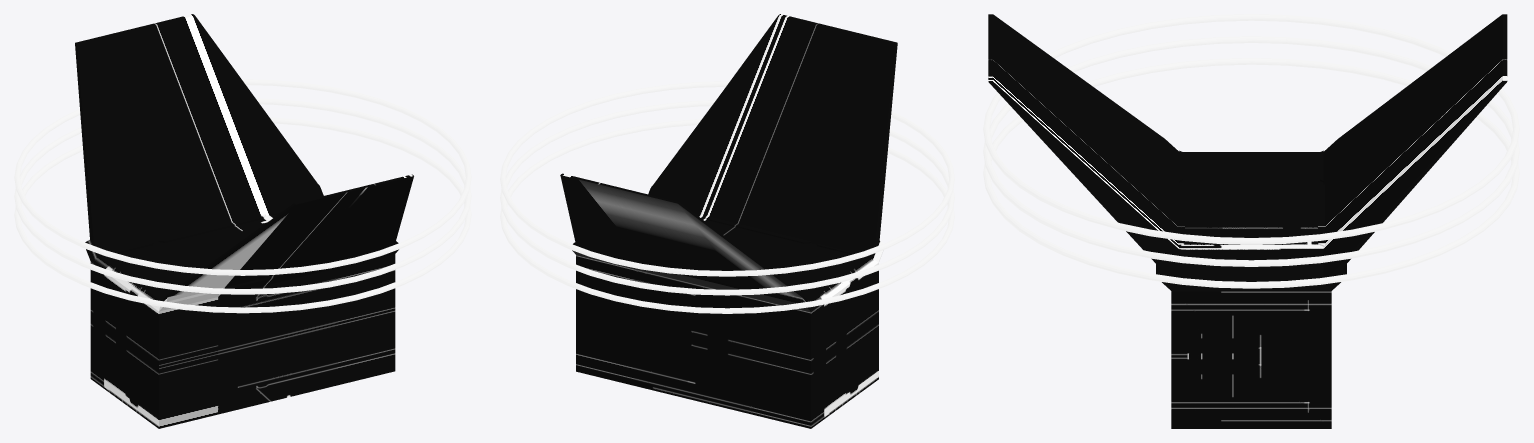
Rendered from TronscendenceMap2.glb.
3 renders of one model, left to right at view 1: azimuth 30°, elevation 25°; view 2: azimuth 150°, elevation 25°; view 3: azimuth 270°, elevation 25°, orthographic. The views are drawn at different scales.
Visible parts, largest first — view 1: Cube, Torus.002, Torus.001, Torus; view 2: Cube, Torus.002, Torus.001, Torus; view 3: Cube, Torus.002, Torus.001, Torus.
Boxes of the visible parts, left/top/right/bottom form: Cube: left=75, top=14, right=413, bottom=428; Torus.002: left=14, top=79, right=471, bottom=275; Torus.001: left=14, top=98, right=471, bottom=294; Torus: left=14, top=117, right=471, bottom=313; Cube: left=560, top=14, right=897, bottom=428; Torus.002: left=500, top=81, right=954, bottom=276; Torus.001: left=500, top=100, right=954, bottom=295; Torus: left=500, top=119, right=954, bottom=313; Cube: left=988, top=14, right=1507, bottom=428; Torus.002: left=983, top=14, right=1519, bottom=244; Torus.001: left=983, top=36, right=1519, bottom=266; Torus: left=983, top=58, right=1519, bottom=288.
Size of what is drawn, in the model's own units: 6.7 by 4.32 by 6.7.
4 materials, 1 textured.
